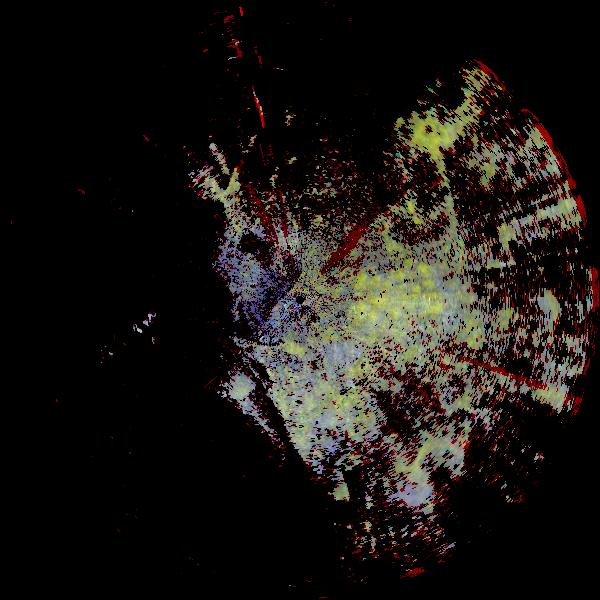roost: (402, 420, 504, 522)
